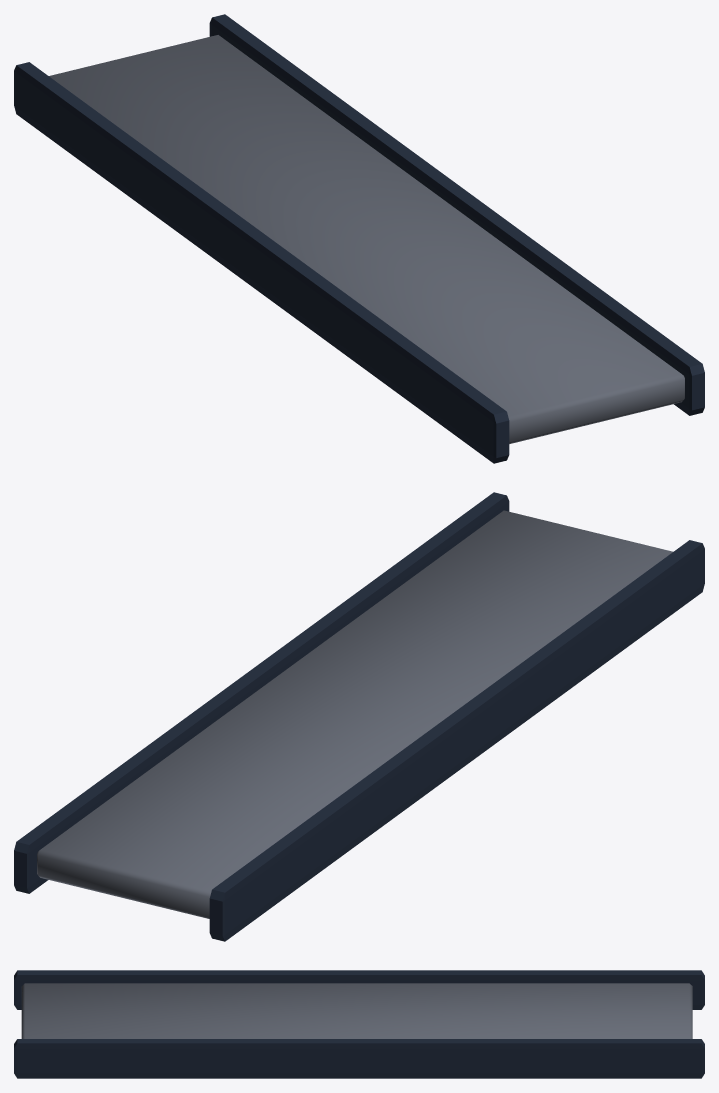
Rendered from conveyor 1.fbx.
3 views of the same model, one above another, from view 1: azimuth 30°, elevation 25°; view 2: azimuth 150°, elevation 25°; view 3: azimuth 270°, elevation 25° (orthographic). The views are drawn at different scales.
Visible parts, largest first — view 1: Cube.001, Cube.003; view 2: Cube.001, Cube.003; view 3: Cube.003, Cube.001.
Boxes of the visible parts, box(x1,y1,x2,y2) form: Cube.001: box(49, 35, 684, 443); Cube.003: box(14, 14, 704, 463); Cube.001: box(37, 510, 672, 918); Cube.003: box(14, 492, 704, 941); Cube.003: box(14, 970, 704, 1078); Cube.001: box(21, 983, 692, 1038).
Size of the model in its own units: 1.69 by 0.3773 by 6.73.
